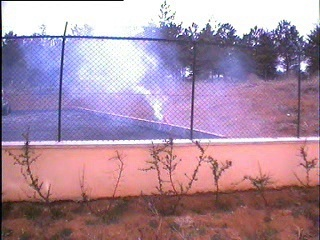smoke: (21, 25, 186, 123)
